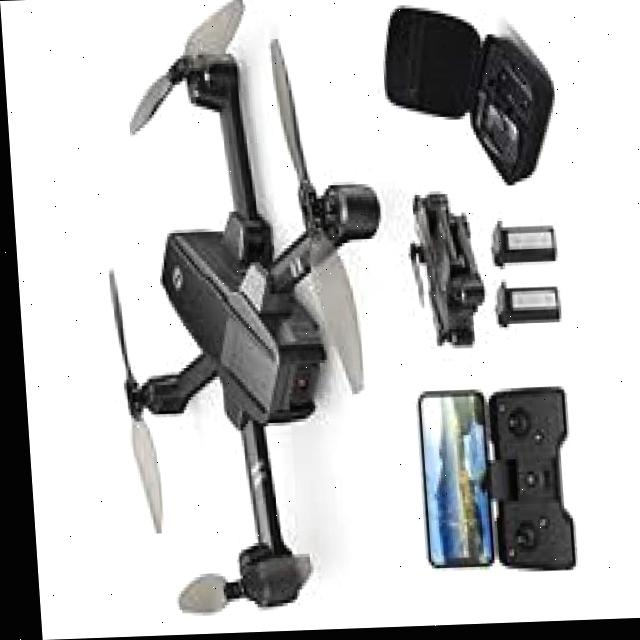drone: (63, 0, 401, 638)
